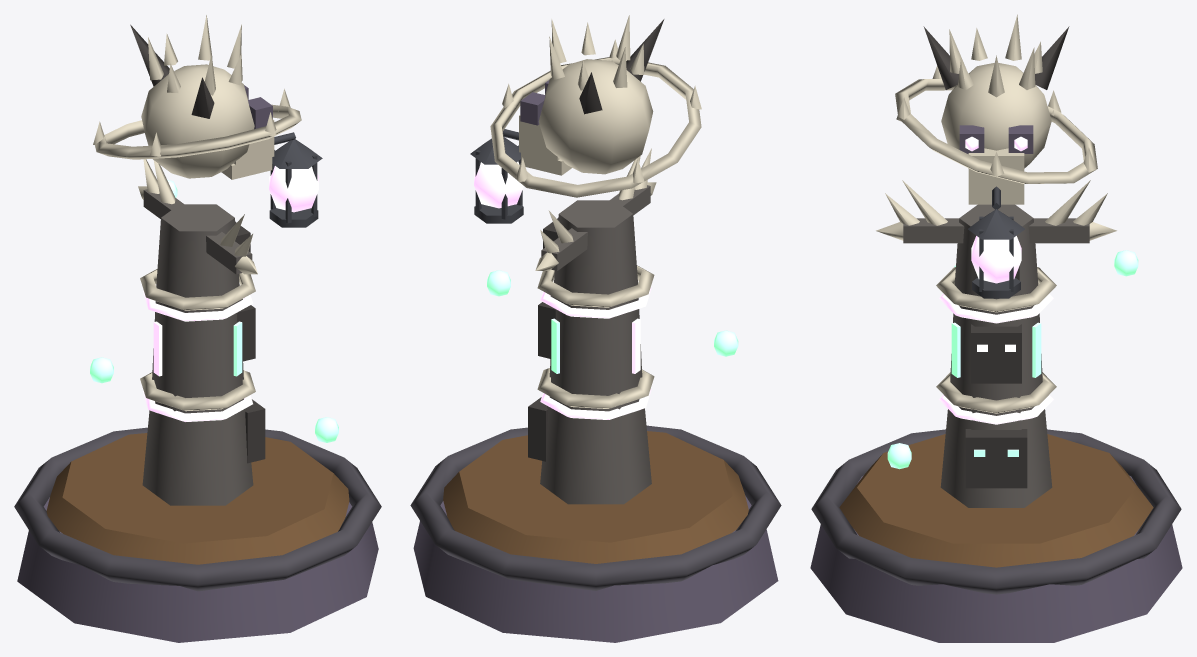
File: tower_necromancer_soulLord.glb
3 views of the same model, side by side, from view 1: azimuth 30°, elevation 25°; view 2: azimuth 150°, elevation 25°; view 3: azimuth 270°, elevation 25° (orthographic).
Parts seen in each view (by area): view 1: grave_soil, base, base_rim, pole_0, skull_cranium, pole_1, pole_2, bone_orbit, bone_ring_1, bone_ring_0, core_halo, crossbar (+14 smaller); view 2: grave_soil, base, base_rim, skull_cranium, pole_0, pole_1, pole_2, bone_orbit, bone_ring_1, bone_ring_0, core_halo, crossbar (+13 smaller); view 3: grave_soil, base, base_rim, skull_cranium, pole_0, bone_orbit, pole_face_0, pole_1, pole_2, pole_face_1, crossbar, bone_ring_1 (+18 smaller).
Boxes of the visible parts, left/top/right/bottom form: grave_soil: left=46, top=433, right=349, bottom=564; base: left=17, top=497, right=378, bottom=642; base_rim: left=14, top=427, right=381, bottom=591; pole_0: left=142, top=398, right=253, bottom=505; skull_cranium: left=141, top=64, right=254, bottom=178; pole_1: left=152, top=285, right=243, bottom=397; pole_2: left=156, top=204, right=239, bottom=297; bone_orbit: left=95, top=104, right=301, bottom=159; bone_ring_1: left=140, top=268, right=255, bottom=310; bone_ring_0: left=140, top=370, right=255, bottom=411; core_halo: left=269, top=166, right=318, bottom=212; crossbar: left=143, top=189, right=252, bottom=274; grave_soil: left=443, top=431, right=748, bottom=563; base: left=413, top=495, right=778, bottom=642; base_rim: left=410, top=425, right=781, bottom=590; skull_cranium: left=538, top=59, right=653, bottom=174; pole_0: left=540, top=396, right=651, bottom=504; pole_1: left=549, top=282, right=642, bottom=395; pole_2: left=554, top=200, right=637, bottom=294; bone_orbit: left=490, top=57, right=701, bottom=197; bone_ring_1: left=537, top=265, right=654, bottom=307; bone_ring_0: left=537, top=368, right=654, bottom=408; core_halo: left=474, top=161, right=523, bottom=208; crossbar: left=541, top=185, right=650, bottom=270; grave_soil: left=839, top=434, right=1153, bottom=567; base: left=810, top=475, right=1182, bottom=642; base_rim: left=811, top=429, right=1181, bottom=594; skull_cranium: left=941, top=63, right=1051, bottom=168; pole_0: left=940, top=406, right=1052, bottom=507; bone_orbit: left=895, top=79, right=1097, bottom=183; pole_face_0: left=965, top=429, right=1027, bottom=488; pole_1: left=950, top=287, right=1042, bottom=400; pole_2: left=954, top=204, right=1038, bottom=299; pole_face_1: left=971, top=324, right=1021, bottom=383; crossbar: left=903, top=218, right=1089, bottom=243; bone_ring_1: left=936, top=267, right=1056, bottom=312.
Bounding box in the file's own units: 0.398 × 0.634 × 0.4.
